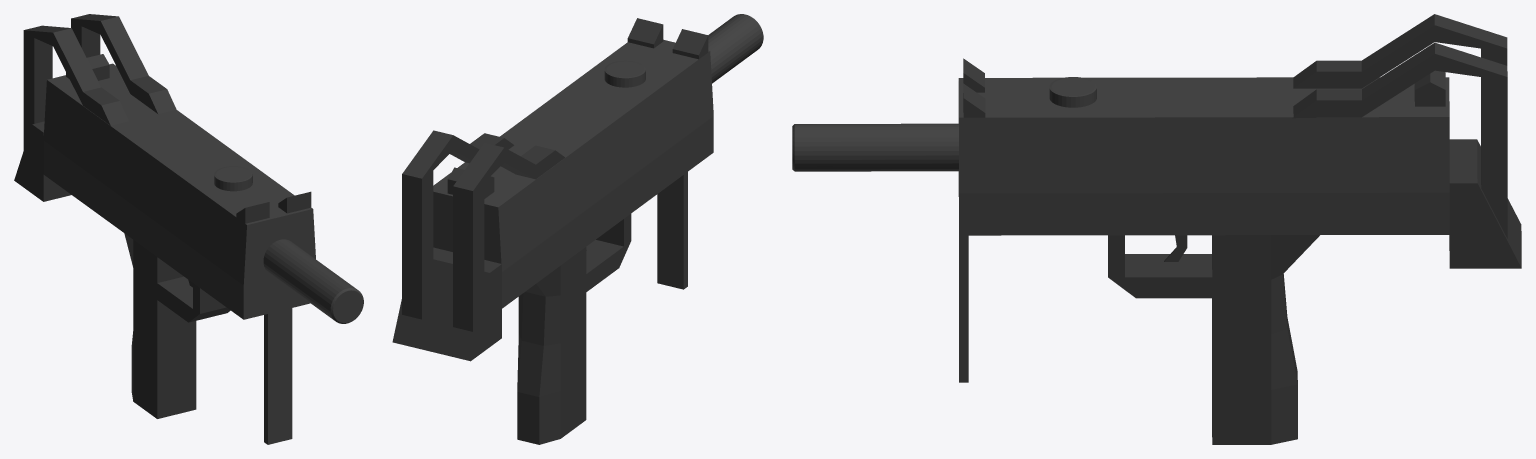
File: smg_01.glb
The picture shows the model from 3 angles, left to right: view 1: azimuth 30°, elevation 25°; view 2: azimuth 150°, elevation 25°; view 3: azimuth 270°, elevation 25°; orthographic projection. The views are drawn at different scales.
Parts seen in each view (by area): view 1: Cube, Cube.005, Cube.012, Cylinder.002, Cube.011, Cube.009, Cube.014, Cube.010, Cylinder.006, Cube.017, Cube.016, Cube.013; view 2: Cube, Cube.005, Cube.012, Cube.011, Cube.010, Cube.009, Cylinder.002, Cube.014, Cylinder.006, Cube.017, Cube.016, Cube.013; view 3: Cube, Cube.005, Cube.011, Cylinder.002, Cube.010, Cube.012, Cube.014, Cube.009, Cylinder.006, Cube.013.
Part boxes in pixels (bbox=[...]): Cube: bbox=[43, 63, 315, 319]; Cube.005: bbox=[124, 233, 196, 418]; Cube.012: bbox=[23, 25, 128, 149]; Cylinder.002: bbox=[263, 239, 363, 323]; Cube.011: bbox=[71, 14, 176, 114]; Cube.009: bbox=[264, 308, 292, 444]; Cube.014: bbox=[157, 276, 230, 322]; Cube.010: bbox=[14, 121, 71, 201]; Cylinder.006: bbox=[214, 166, 252, 191]; Cube.017: bbox=[278, 191, 311, 213]; Cube.016: bbox=[236, 202, 269, 223]; Cube.013: bbox=[66, 54, 109, 80]; Cube: bbox=[433, 39, 713, 308]; Cube.005: bbox=[517, 247, 586, 444]; Cube.012: bbox=[453, 142, 564, 331]; Cube.011: bbox=[402, 130, 513, 319]; Cube.010: bbox=[392, 247, 501, 361]; Cube.009: bbox=[657, 172, 687, 289]; Cylinder.002: bbox=[708, 14, 763, 83]; Cube.014: bbox=[586, 214, 631, 291]; Cylinder.006: bbox=[604, 60, 645, 87]; Cube.017: bbox=[627, 18, 663, 48]; Cube.016: bbox=[672, 29, 708, 59]; Cube.013: bbox=[447, 167, 494, 198]; Cube: bbox=[958, 77, 1449, 235]; Cube.005: bbox=[1212, 235, 1319, 444]; Cube.011: bbox=[1292, 42, 1507, 238]; Cylinder.002: bbox=[792, 123, 958, 171]; Cube.010: bbox=[1449, 139, 1521, 268]; Cube.012: bbox=[1293, 14, 1507, 88]; Cube.014: bbox=[1108, 235, 1212, 298]; Cube.009: bbox=[959, 235, 968, 382]; Cylinder.006: bbox=[1049, 77, 1096, 107]; Cube.013: bbox=[1414, 70, 1445, 106].
Size of the model in its own units: 0.5862 by 2.44 by 4.04.
Materials: 2 (2 with a texture image).
